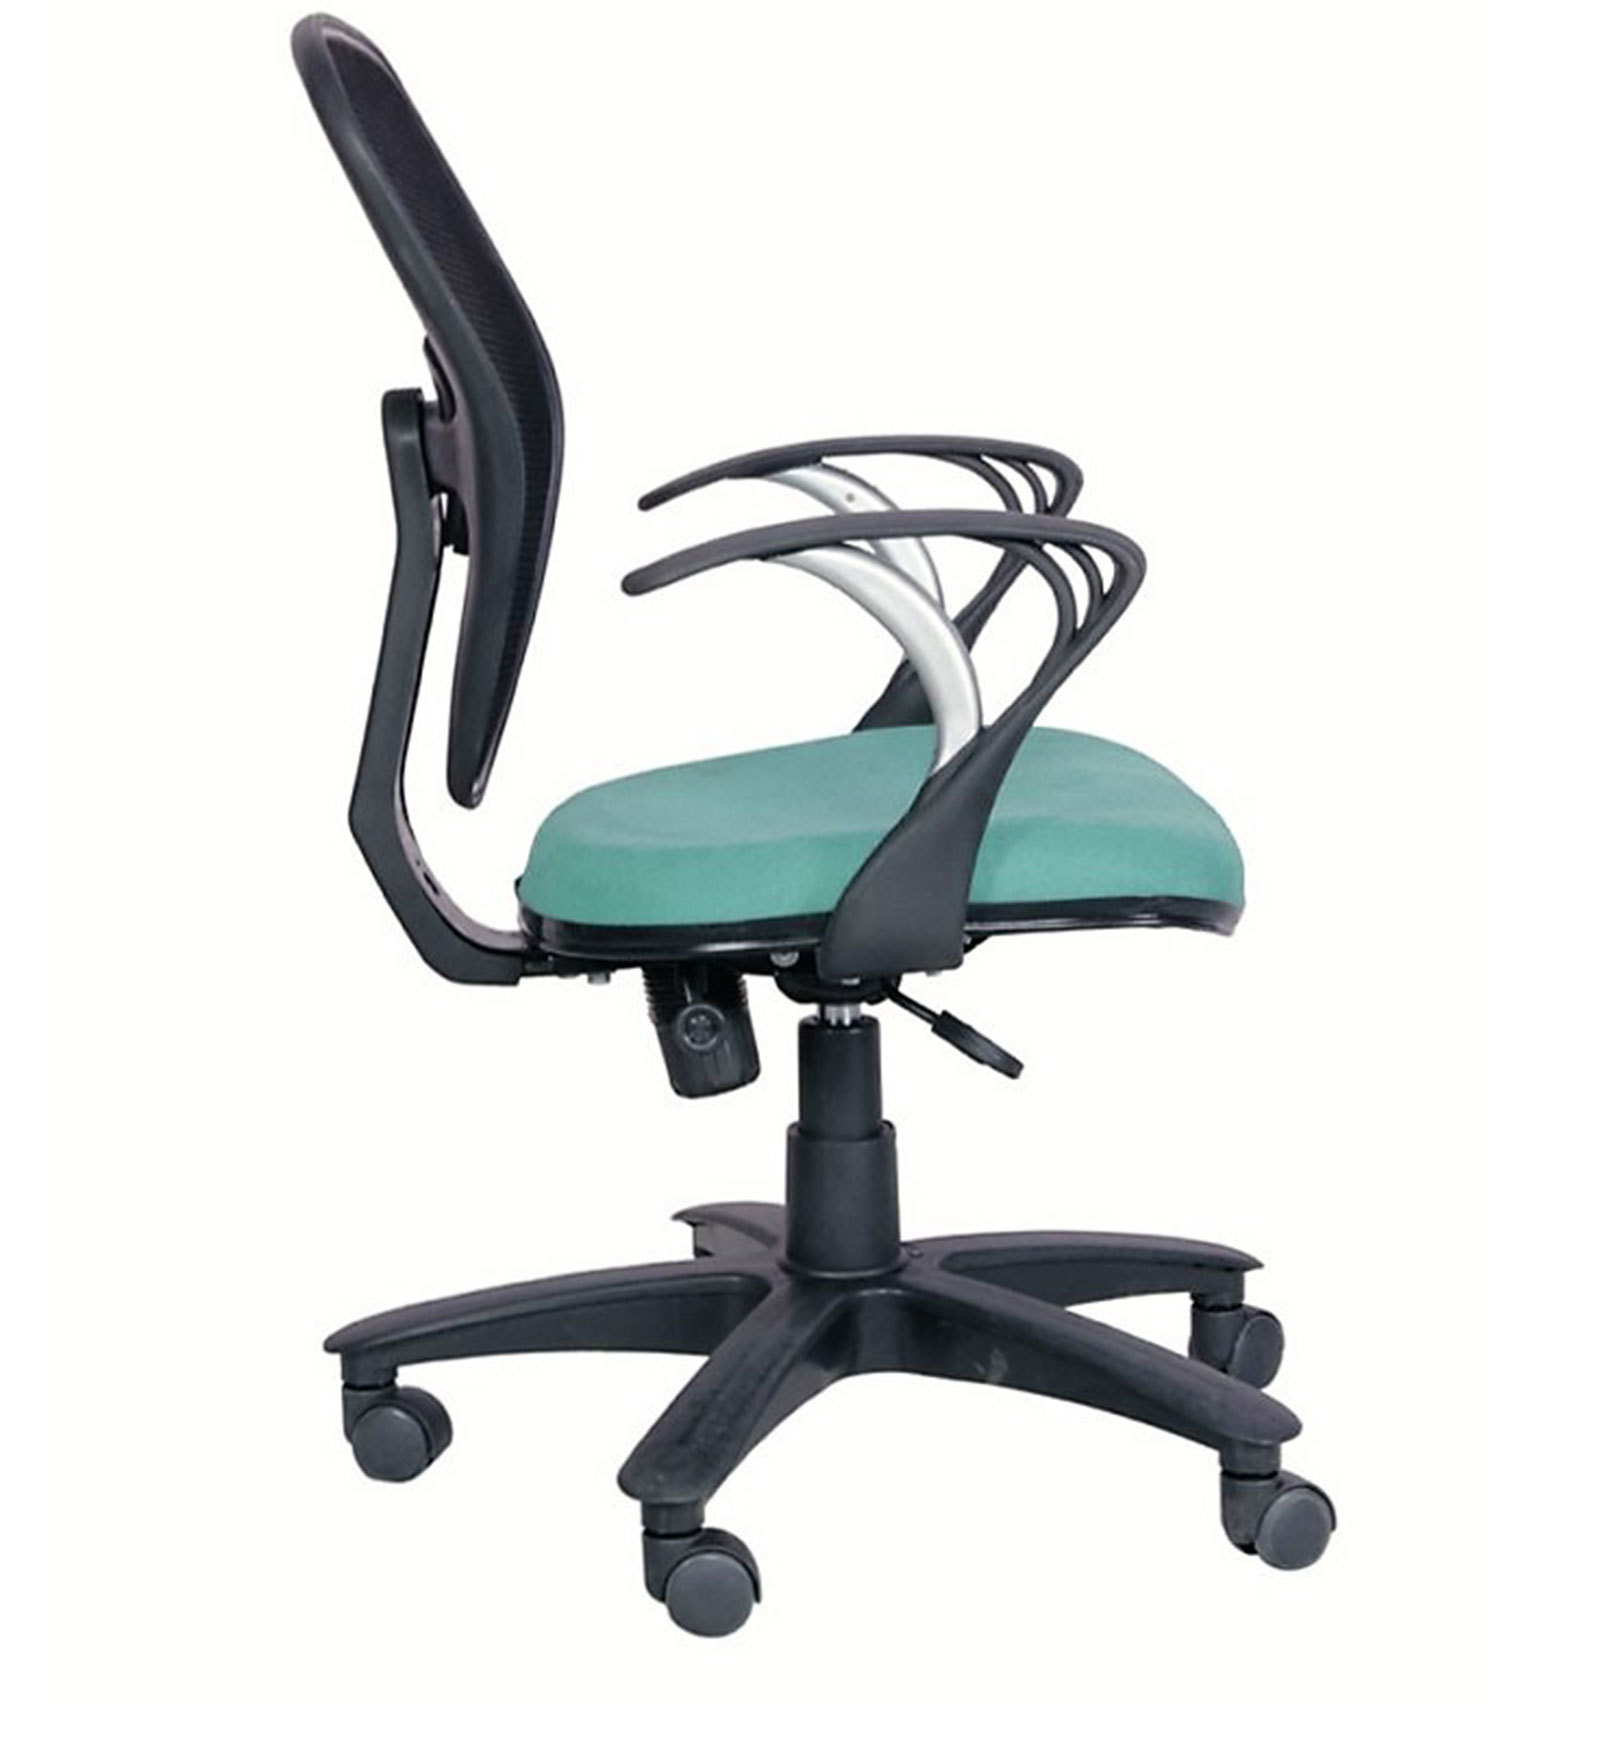Triangular Back Ergonomic Chair with Green Seat by Adiko Systems: (202, 14, 1425, 1680)
